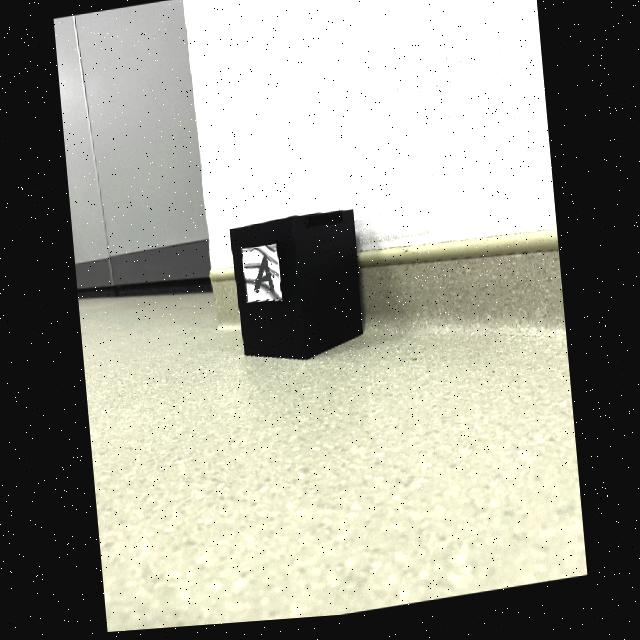A: (254, 259, 274, 297)
